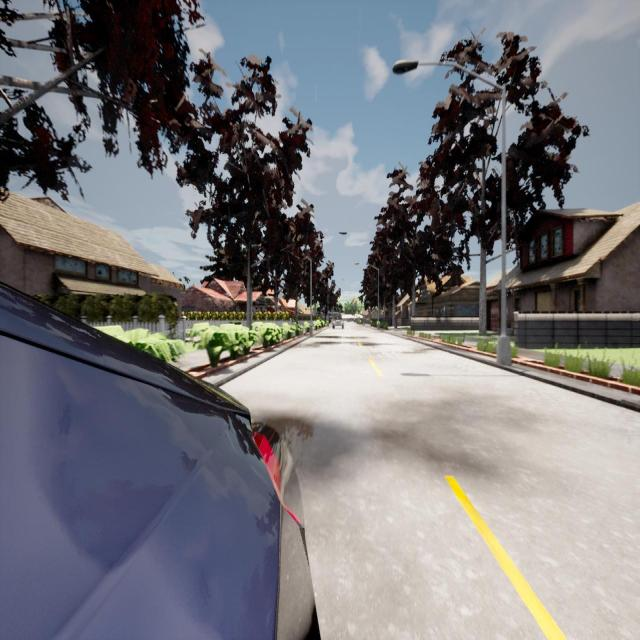Vehicle: (0, 283, 313, 638), (332, 314, 344, 330)
